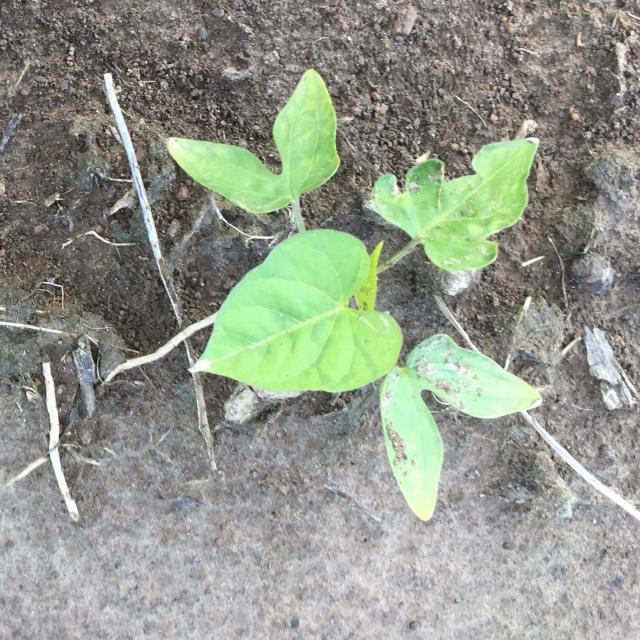MorningGlory: (166, 69, 542, 521)
